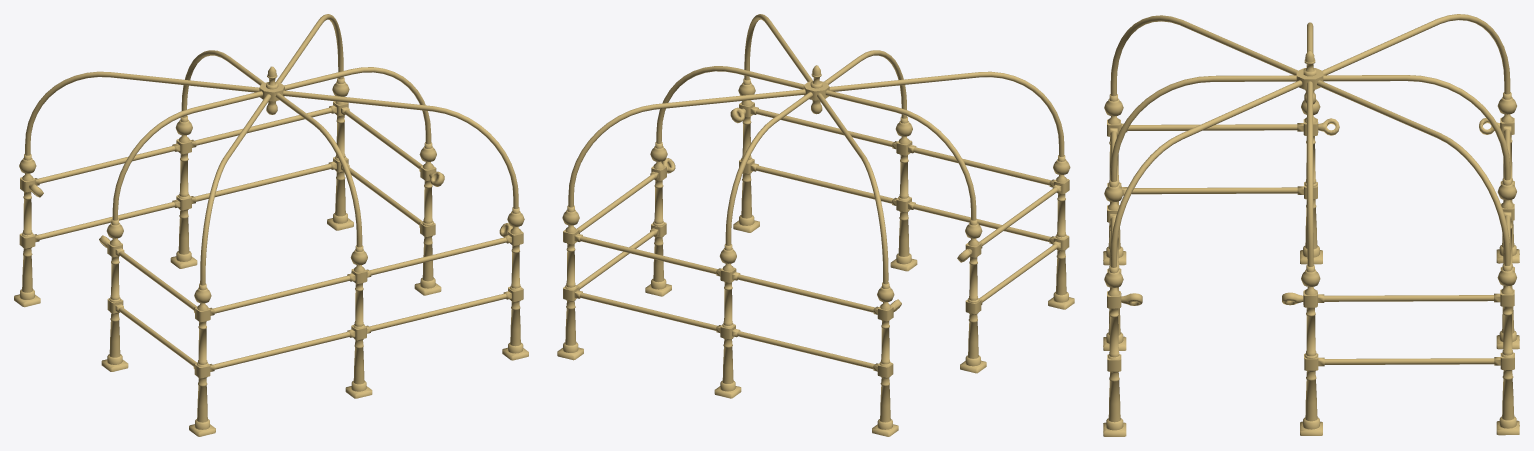
The model's file is HatchCovers_003_Mesh.fbx.
3 views of the same model, side by side, from view 1: azimuth 30°, elevation 25°; view 2: azimuth 150°, elevation 25°; view 3: azimuth 270°, elevation 25° (orthographic). The views are drawn at different scales.
Visible parts, largest first — view 1: HatchRails.003; view 2: HatchRails.003; view 3: HatchRails.003.
Boxes of the visible parts, bbox=[...] form: HatchRails.003: bbox=[14, 14, 528, 436]; HatchRails.003: bbox=[557, 14, 1074, 436]; HatchRails.003: bbox=[1103, 14, 1519, 436].
Size of the model in its own units: 185 by 140 by 179.
